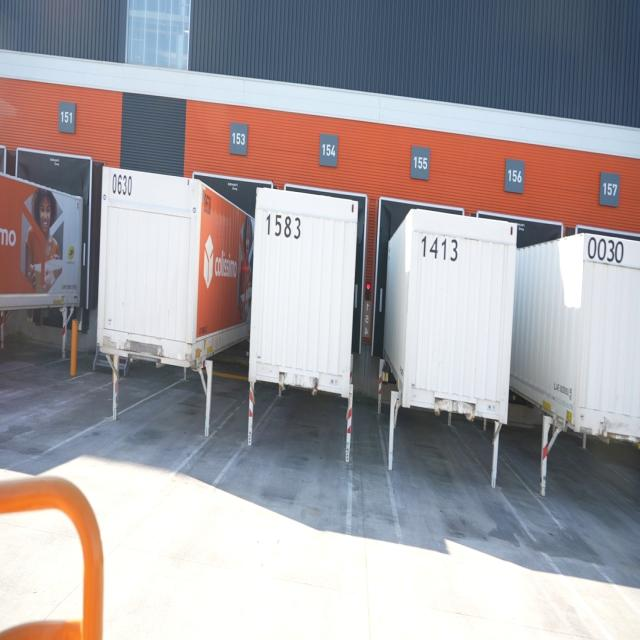Code: (420, 230, 460, 266), (586, 234, 625, 270), (262, 208, 302, 242), (109, 171, 134, 199)
